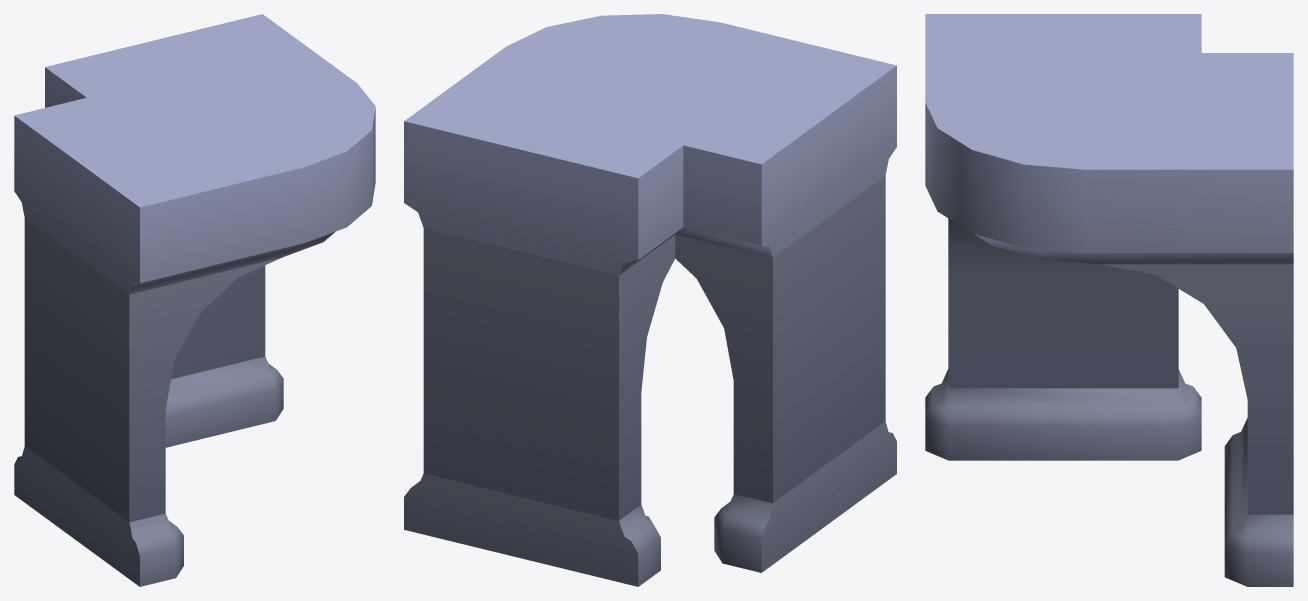
Rendered from kenney-mini-arena-wall-corner.glb.
3 views of the same model, side by side, from view 1: azimuth 30°, elevation 25°; view 2: azimuth 150°, elevation 25°; view 3: azimuth 270°, elevation 25° (orthographic). The views are drawn at different scales.
Visible parts, largest first — view 1: wall-corner; view 2: wall-corner; view 3: wall-corner.
Boxes of the visible parts, bbox=[...] form: wall-corner: bbox=[14, 14, 375, 586]; wall-corner: bbox=[404, 14, 896, 586]; wall-corner: bbox=[925, 14, 1293, 586].
Size of the model in its own units: 0.8 by 1 by 0.8.
1 material, 1 textured.
